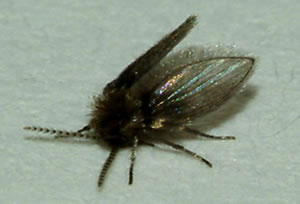phorid fly: (12, 8, 264, 198)
